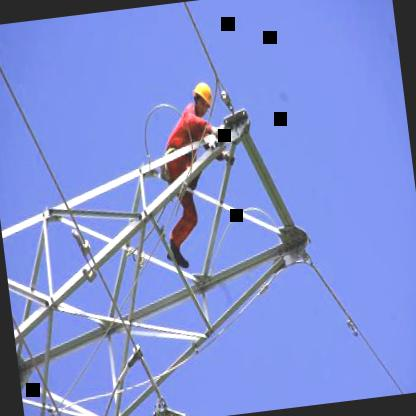helmet: (188, 78, 216, 115)
